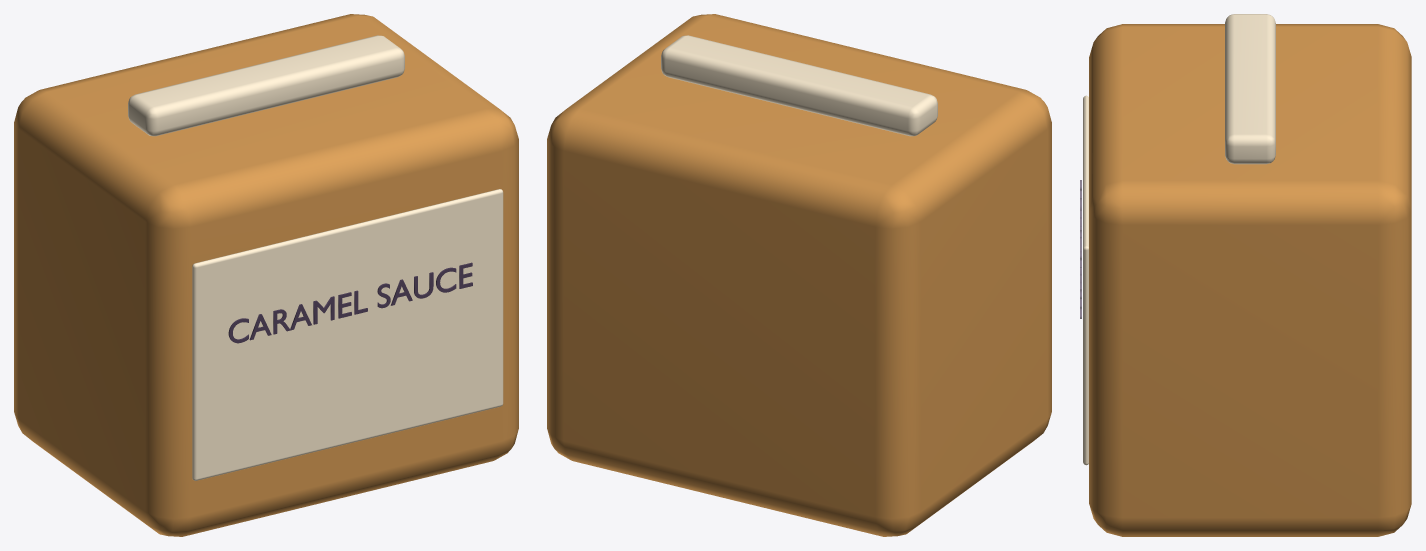
File: Caramel_sauce_refill.fbx
The picture shows the model from 3 angles, left to right: view 1: azimuth 30°, elevation 25°; view 2: azimuth 150°, elevation 25°; view 3: azimuth 270°, elevation 25°; orthographic projection.
Visible parts, largest first — view 1: Toon_Caramel_sauce_refill Rounded refill package.001, Toon_Caramel_sauce_refill Cream paper label.001, Toon_Caramel_sauce_refill Folded seal.001, Package contents.008; view 2: Toon_Caramel_sauce_refill Rounded refill package.001, Toon_Caramel_sauce_refill Folded seal.001; view 3: Toon_Caramel_sauce_refill Rounded refill package.001, Toon_Caramel_sauce_refill Folded seal.001, Toon_Caramel_sauce_refill Cream paper label.001.
Part boxes in pixels (bbox=[...]): Toon_Caramel_sauce_refill Rounded refill package.001: bbox=[14, 14, 518, 536]; Toon_Caramel_sauce_refill Cream paper label.001: bbox=[192, 189, 503, 480]; Toon_Caramel_sauce_refill Folded seal.001: bbox=[128, 35, 404, 136]; Package contents.008: bbox=[228, 262, 472, 343]; Toon_Caramel_sauce_refill Rounded refill package.001: bbox=[547, 14, 1051, 536]; Toon_Caramel_sauce_refill Folded seal.001: bbox=[661, 35, 937, 136]; Toon_Caramel_sauce_refill Rounded refill package.001: bbox=[1089, 24, 1411, 536]; Toon_Caramel_sauce_refill Folded seal.001: bbox=[1225, 14, 1275, 164]; Toon_Caramel_sauce_refill Cream paper label.001: bbox=[1083, 95, 1088, 465].
Bounding box in the file's own units: 32 × 31.4 × 24.66.
